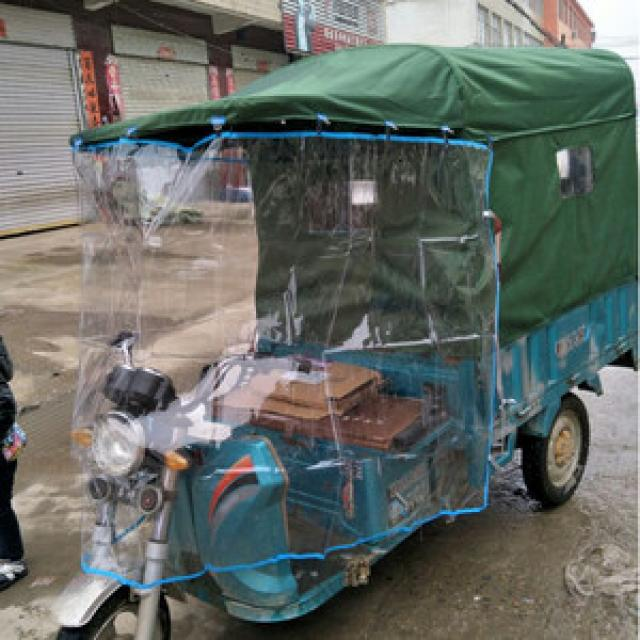tricycle: (45, 38, 636, 638)
